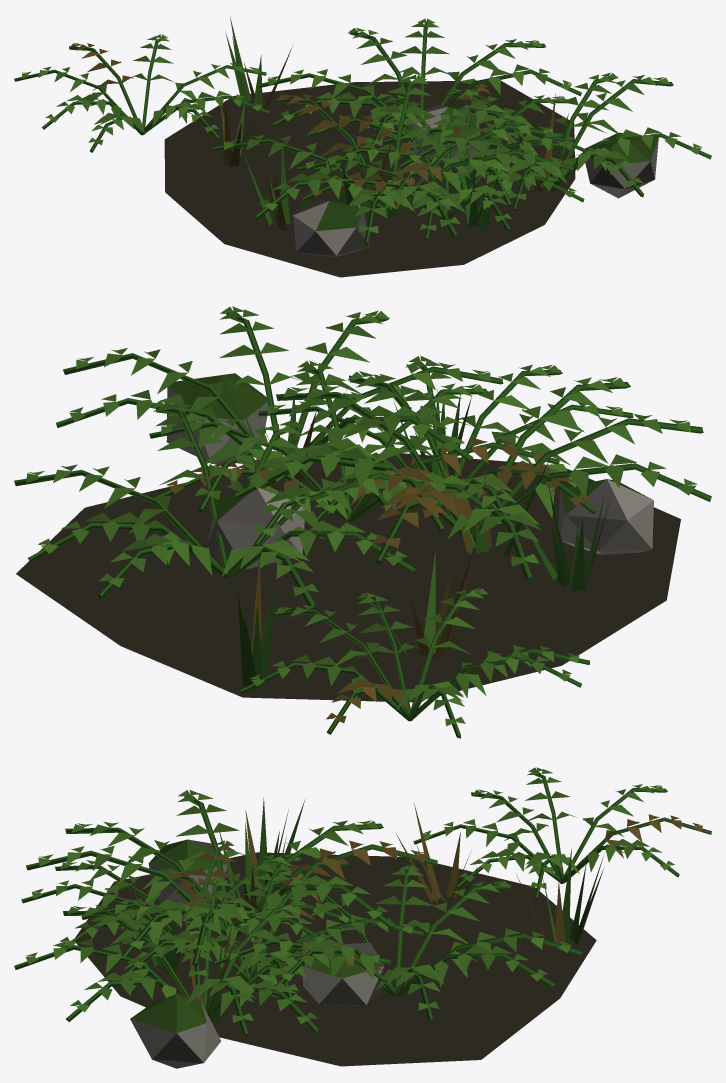
Rendered from fern_cluster.glb.
3 renders of one model, top to bottom at view 1: azimuth 30°, elevation 25°; view 2: azimuth 150°, elevation 25°; view 3: azimuth 270°, elevation 25°, orthographic. The views are drawn at different scales.
Visible parts, largest first — view 1: Mesh; view 2: Mesh; view 3: Mesh.
Part boxes in pixels (left/top/right/bottom): Mesh: left=14, top=16, right=711, bottom=277; Mesh: left=14, top=306, right=711, bottom=738; Mesh: left=14, top=767, right=711, bottom=1068.
Size of the model in its own units: 2.78 by 0.5105 by 2.95.
